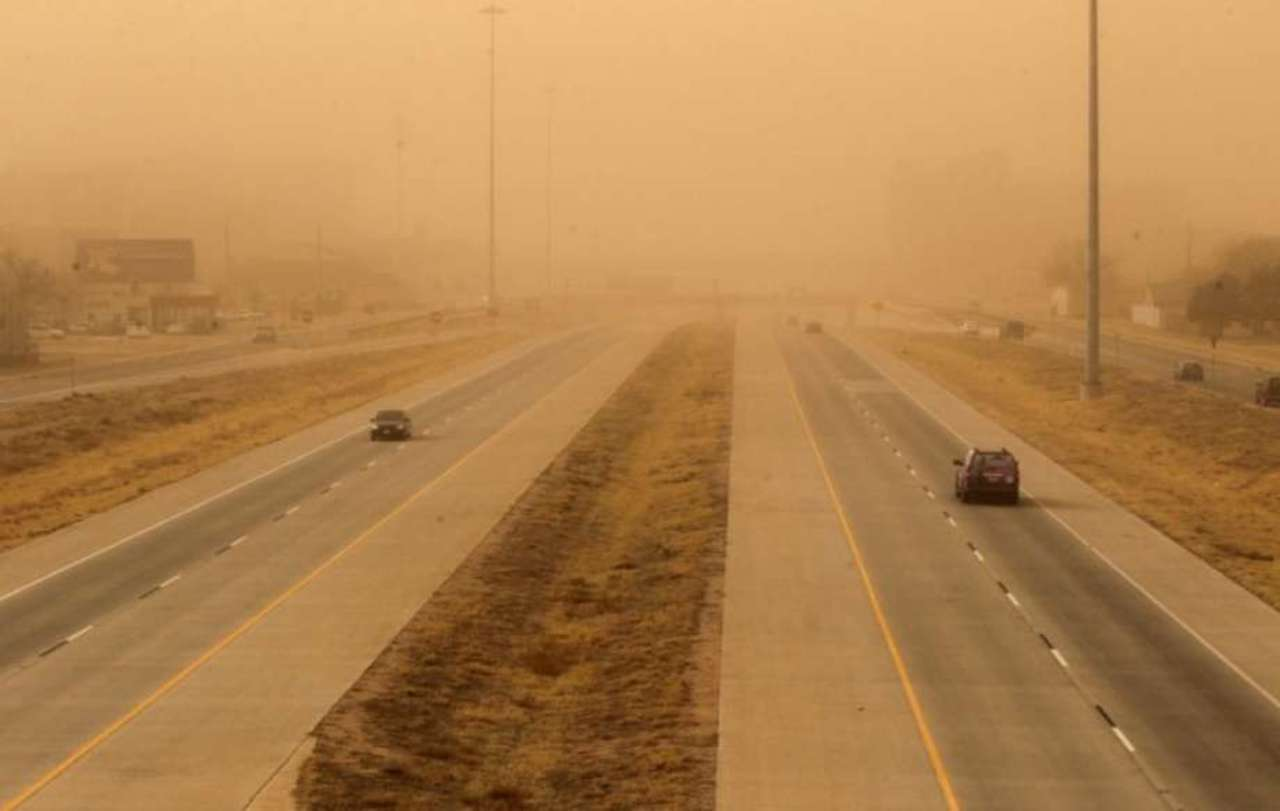car: (954, 448, 1021, 504), (367, 403, 410, 441), (1252, 374, 1278, 408), (1172, 356, 1203, 381), (249, 321, 276, 342)
